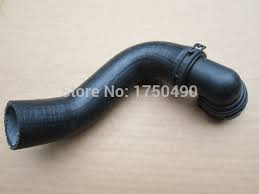radiator_hose: (6, 41, 246, 150)
